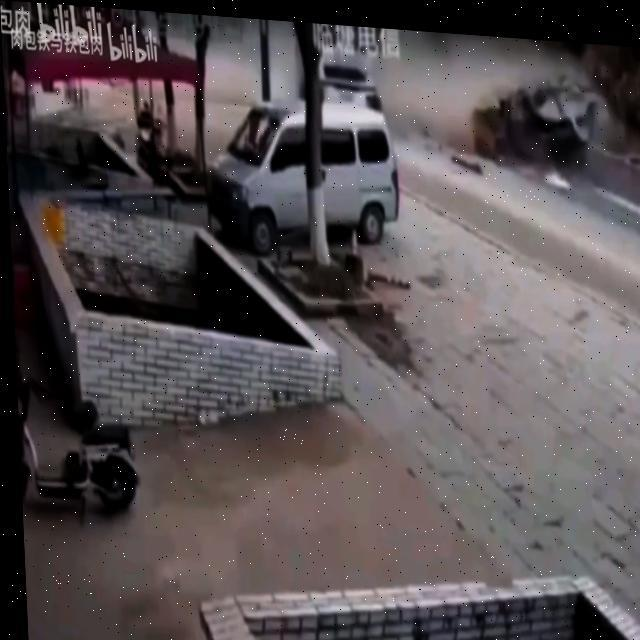multiple_accident: (380, 39, 626, 192)
